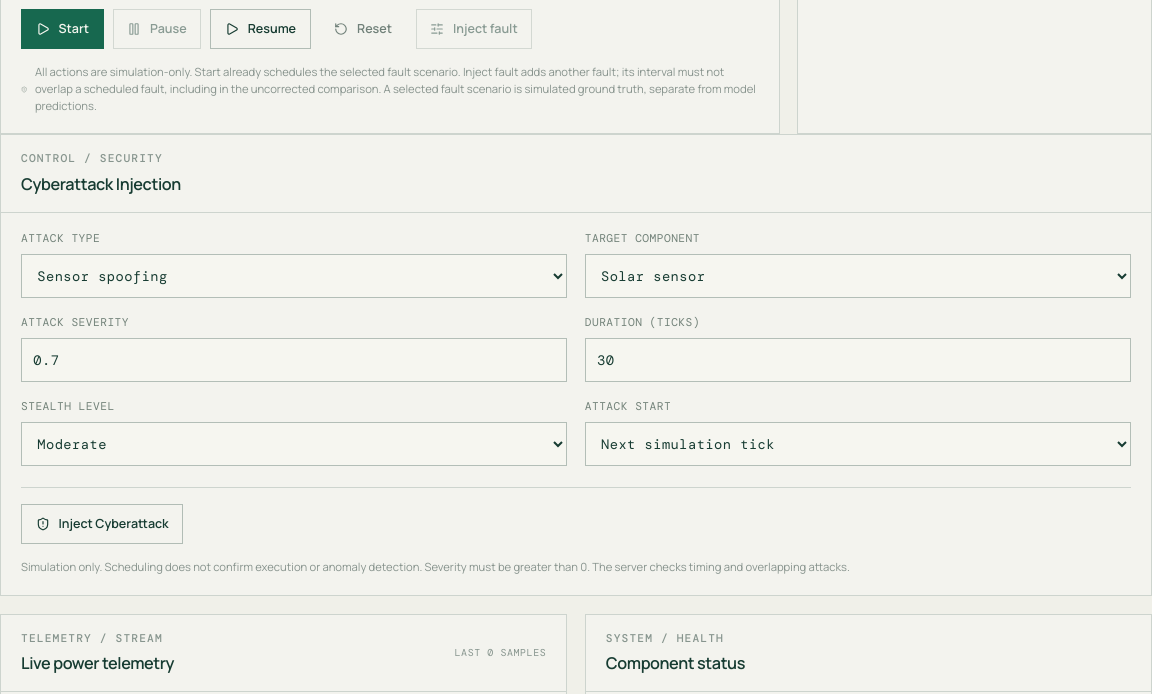
Test: Live Simulation cyberattack controls › rejects invalid Attack duration: -1 before a network request
This screenshot has width=1152, height=694.
(page scrolled)
Replace the text in the number field named "Attack duration" with "-1". click: (858, 360)
box: x1=585 y1=338 x2=1131 y2=382
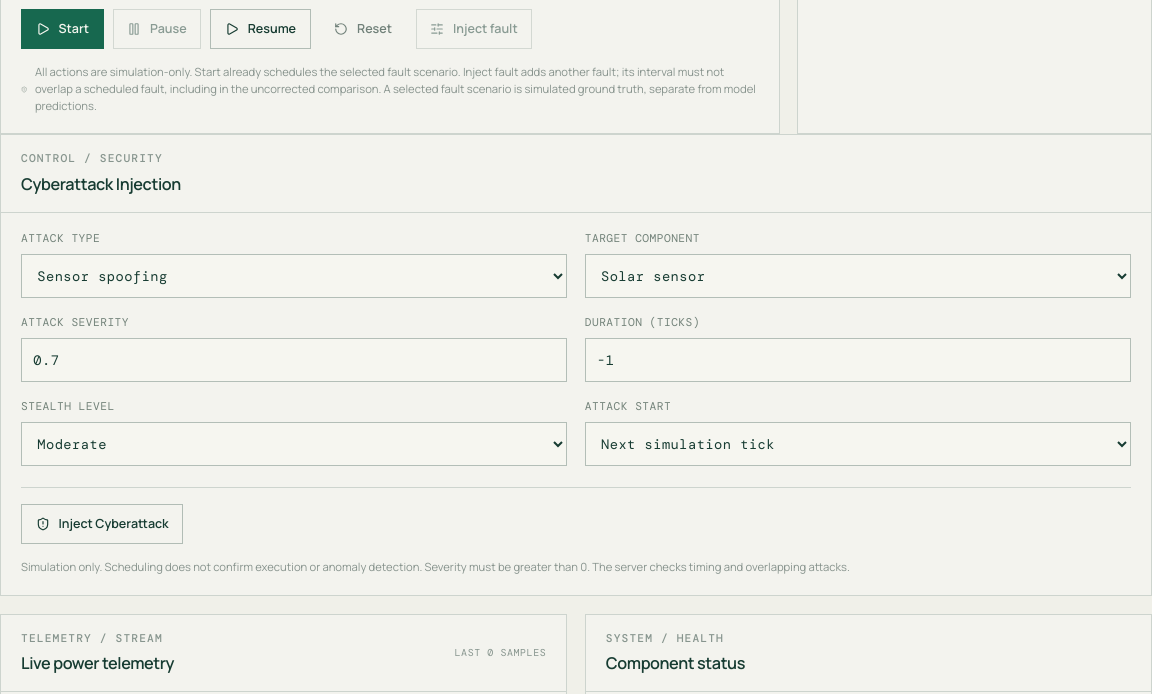
Click the button "Inject Cyberattack". click: (102, 524)
box: x1=21 y1=504 x2=183 y2=544
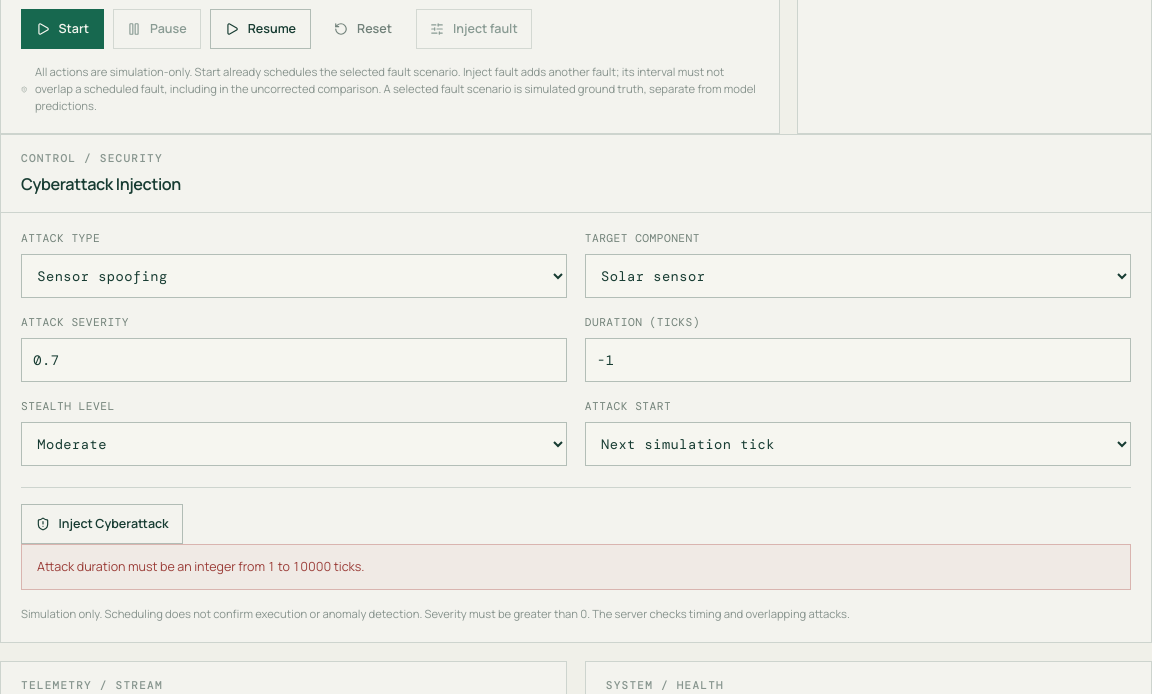
Result: the message "Attack duration must be an integer from 1 to 10000 ticks." is shown at x1=21 y1=544 x2=1131 y2=590
